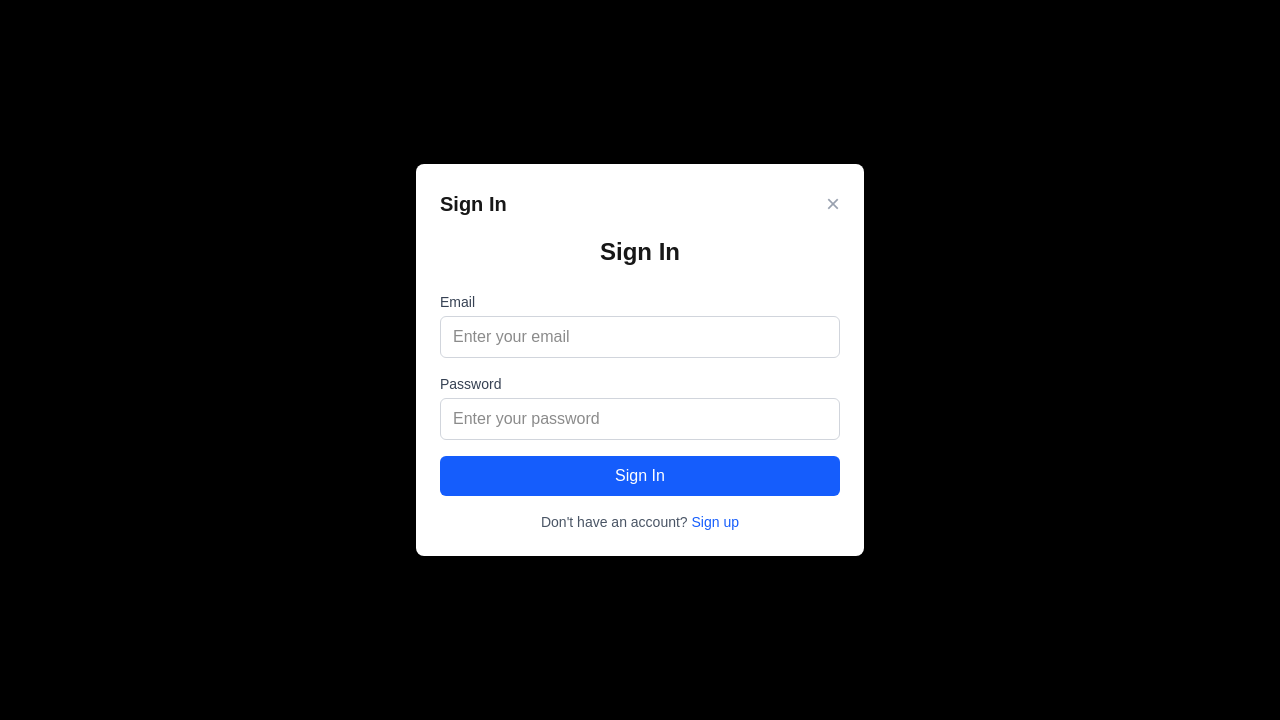
Test case: AuthModal › should switch from login to register mode
Check: the number of headings "Sign In" is 2, box [440, 190, 507, 218]; [600, 238, 680, 265]
# Click switch to register
Click the button "Sign up".
click(715, 522)  # box [692, 512, 739, 532]
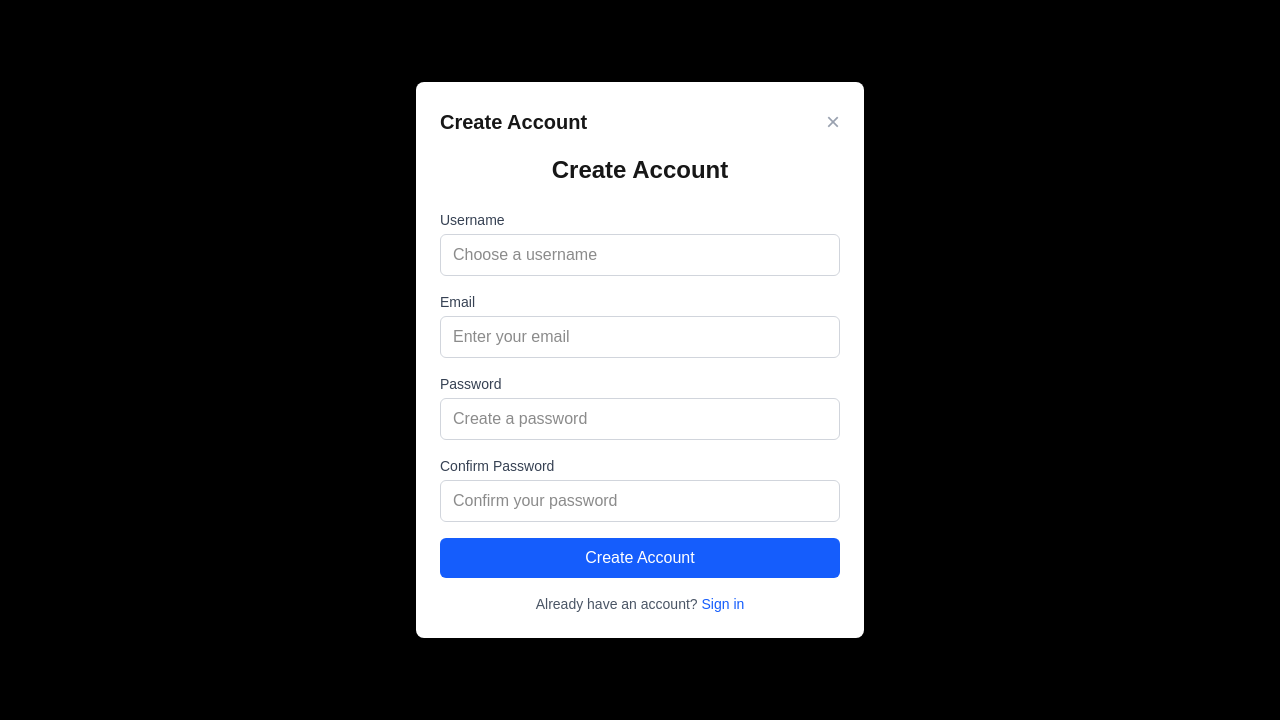
Check: the number of headings "Create Account" is 2, box [440, 108, 587, 136]; [552, 156, 728, 183]
Check: the field labelled "Username" is shown, box [440, 234, 840, 276]
